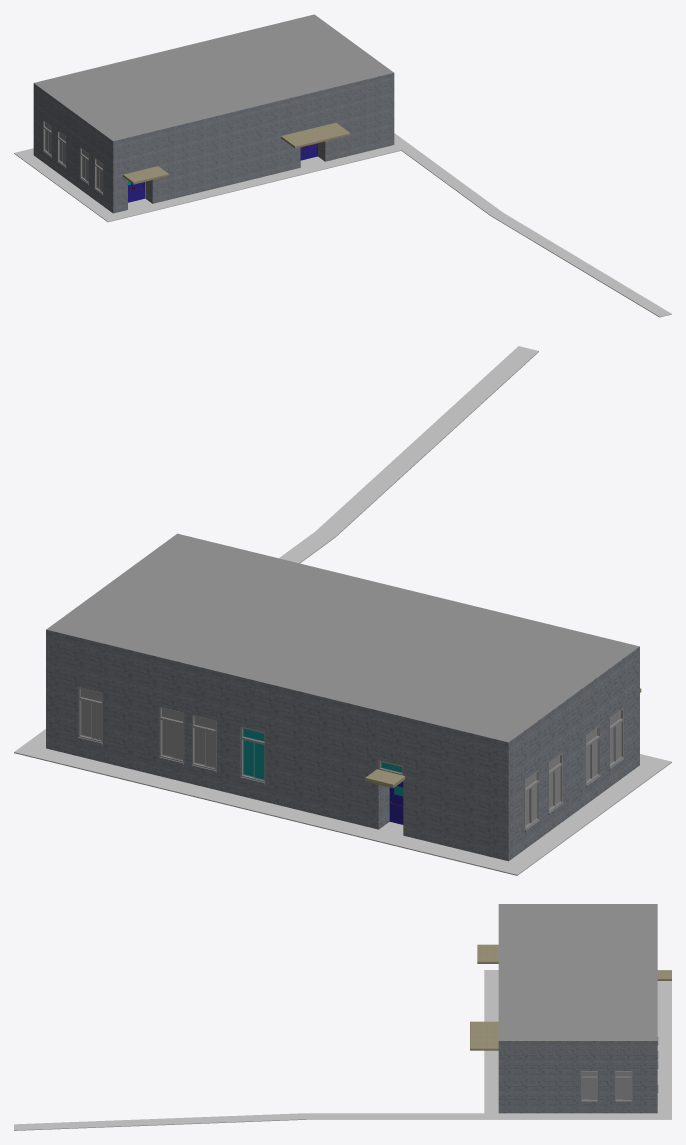
Rendered from EteriorQuimica.FBX.
3 renders of one model, top to bottom at view 1: azimuth 30°, elevation 25°; view 2: azimuth 150°, elevation 25°; view 3: azimuth 270°, elevation 25°, orthographic. The views are drawn at different scales.
Visible parts, largest first — view 1: Box001, Plane021, Plane001, Plane002; view 2: Box001, Plane021, SlidingWindow003, SlidingWindow004, SlidingWindow005, SlidingWindow006; view 3: Box001, Plane021, Plane001, SlidingWindow001, SlidingWindow002, Plane002.
Part boxes in pixels (bbox=[...]): Box001: bbox=[33, 14, 394, 213]; Plane021: bbox=[14, 133, 671, 317]; Plane001: bbox=[281, 122, 350, 148]; Plane002: bbox=[123, 166, 168, 184]; Box001: bbox=[46, 533, 639, 861]; Plane021: bbox=[14, 346, 671, 875]; SlidingWindow003: bbox=[78, 687, 102, 742]; SlidingWindow004: bbox=[159, 707, 183, 762]; SlidingWindow005: bbox=[192, 715, 216, 770]; SlidingWindow006: bbox=[241, 727, 265, 782]; Box001: bbox=[498, 904, 657, 1113]; Plane021: bbox=[14, 970, 671, 1130]; Plane001: bbox=[470, 1021, 498, 1050]; SlidingWindow001: bbox=[615, 1071, 632, 1101]; SlidingWindow002: bbox=[581, 1071, 597, 1101]; Plane002: bbox=[477, 944, 498, 963].
Bounding box in the file's own units: 2665 × 565 × 4627.
